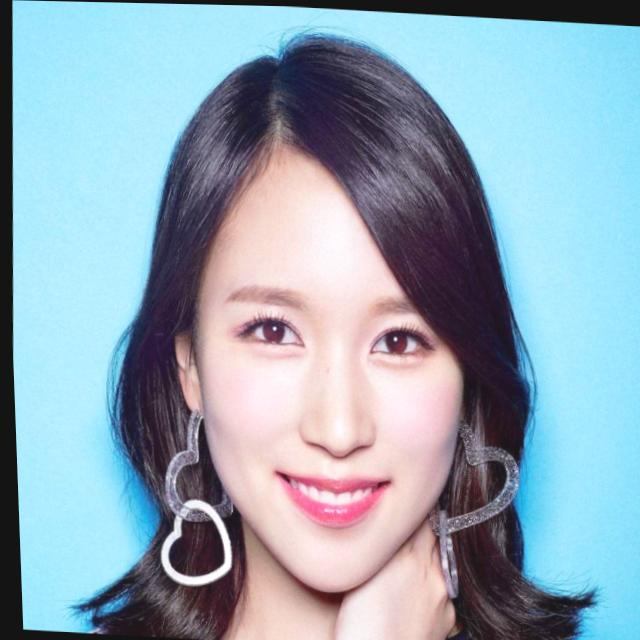face: (171, 123, 474, 595)
